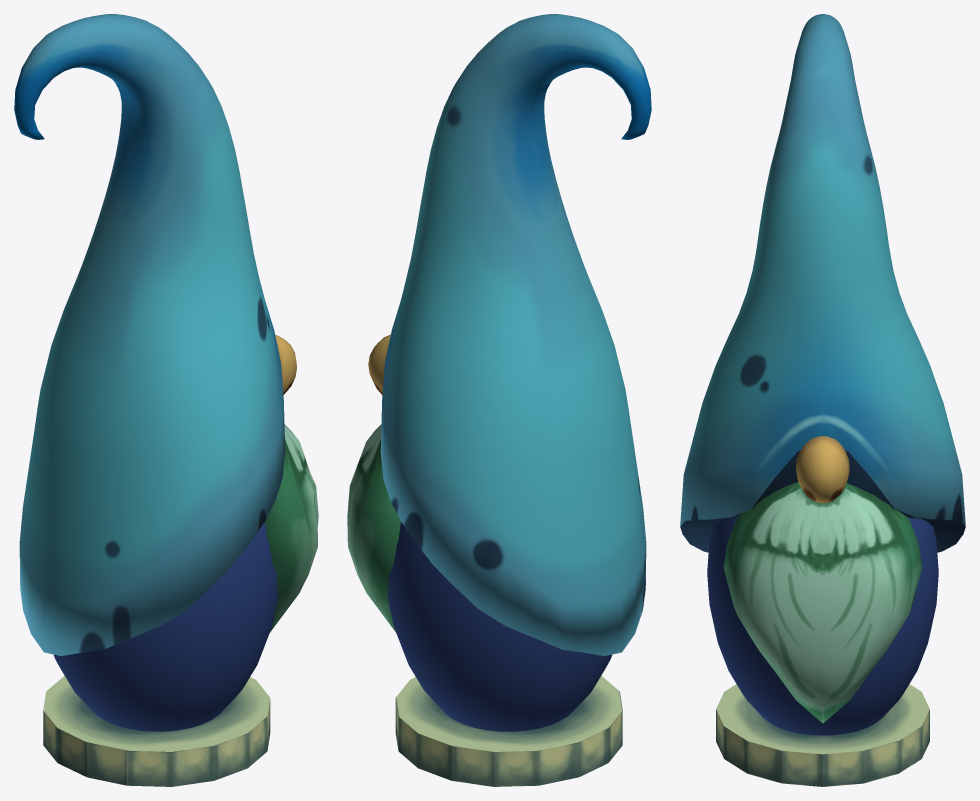
The model's file is gnomo azul.fbx.
3 renders of one model, left to right at view 1: azimuth 30°, elevation 25°; view 2: azimuth 150°, elevation 25°; view 3: azimuth 270°, elevation 25°, orthographic. The views are drawn at different scales.
Visible parts, largest first — view 1: Cylinder.003, Sphere.003, Cylinder.002, Cube.001, Sphere.002; view 2: Cylinder.003, Sphere.003, Cylinder.002, Cube.001, Sphere.002; view 3: Cylinder.003, Cube.001, Sphere.003, Cylinder.002, Sphere.002.
Part boxes in pixels (<box>): Cylinder.003: <box>14,14,285,655</box>; Sphere.003: <box>54,522,278,731</box>; Cylinder.002: <box>43,676,270,786</box>; Cube.001: <box>265,424,318,632</box>; Sphere.002: <box>275,334,296,394</box>; Cylinder.003: <box>380,14,651,655</box>; Sphere.003: <box>387,522,611,731</box>; Cylinder.002: <box>395,676,622,786</box>; Cube.001: <box>347,424,400,631</box>; Sphere.002: <box>368,334,390,394</box>; Cylinder.003: <box>680,14,965,552</box>; Cube.001: <box>723,481,922,723</box>; Sphere.003: <box>707,517,938,735</box>; Cylinder.002: <box>716,684,929,786</box>; Sphere.002: <box>796,436,849,503</box>.
Bounding box in the file's own units: 259 × 652 × 246.
5 materials, 4 textured.
